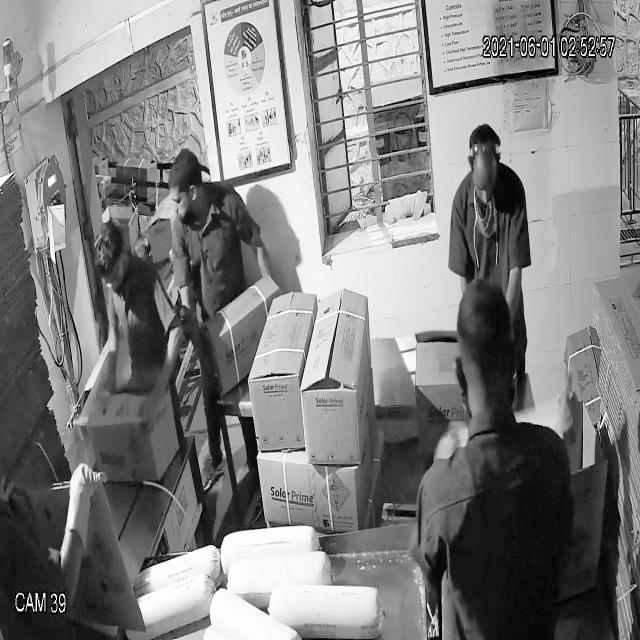glasses: (93, 255, 131, 292)
